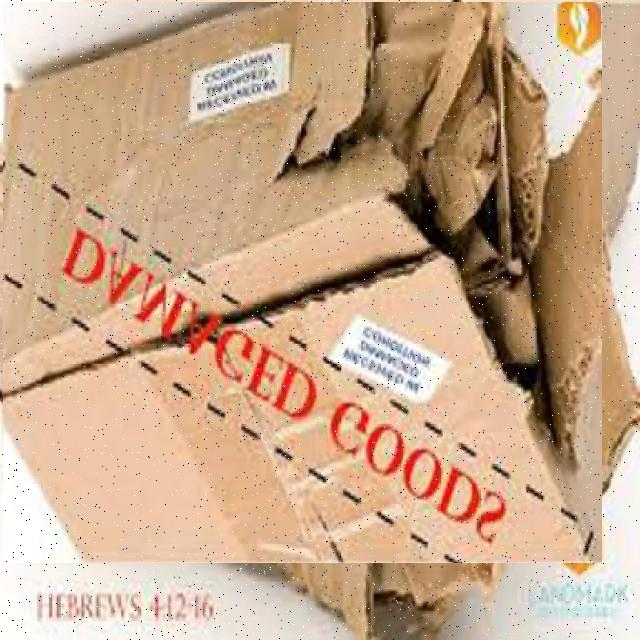defect: (3, 2, 602, 563)
